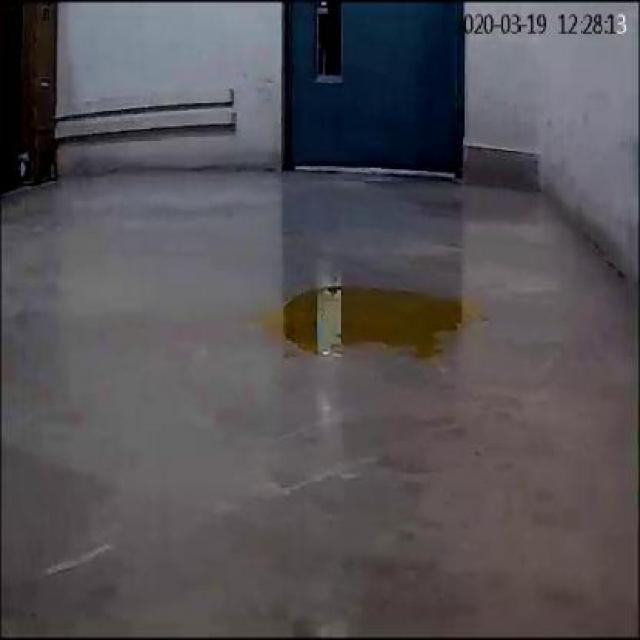spill: (244, 283, 483, 354)
